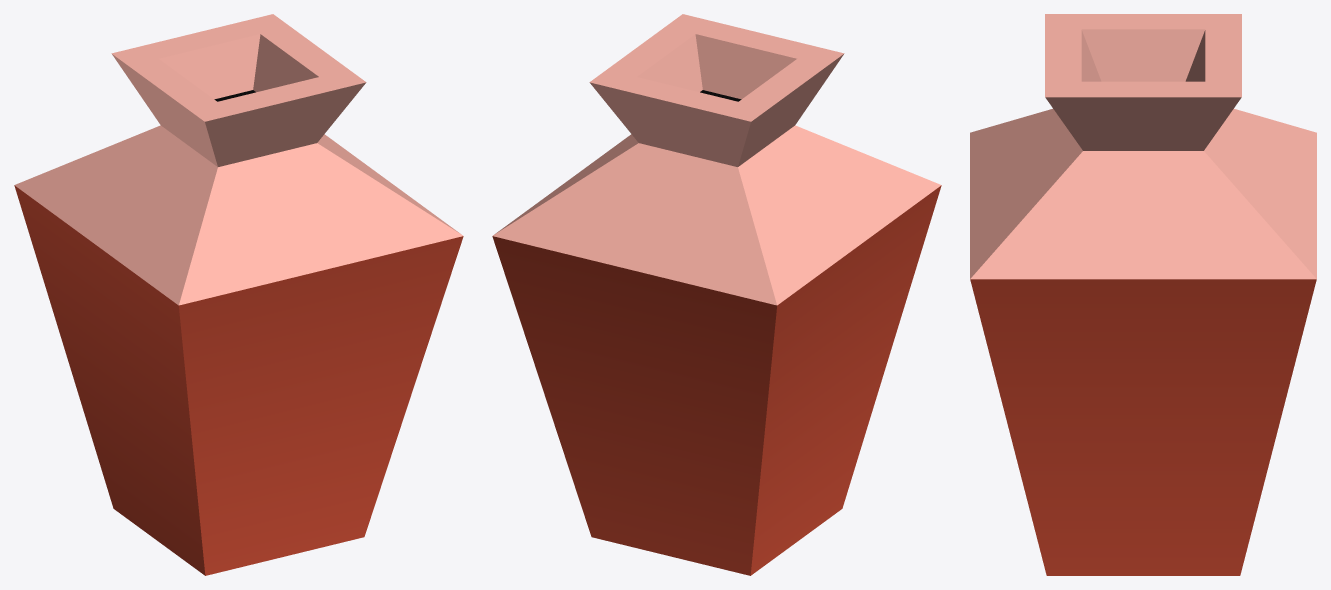
The model's file is Urn 02.FBX.
3 renders of one model, left to right at view 1: azimuth 30°, elevation 25°; view 2: azimuth 150°, elevation 25°; view 3: azimuth 270°, elevation 25°, orthographic. The views are drawn at different scales.
Visible parts, largest first — view 1: Urn 02; view 2: Urn 02; view 3: Urn 02.
Boxes of the visible parts, x1,y1,x2,y2 form: Urn 02: [14, 14, 463, 575]; Urn 02: [492, 14, 941, 575]; Urn 02: [970, 14, 1316, 575].
Bounding box in the file's own units: 27.89 × 42.57 × 27.89.
